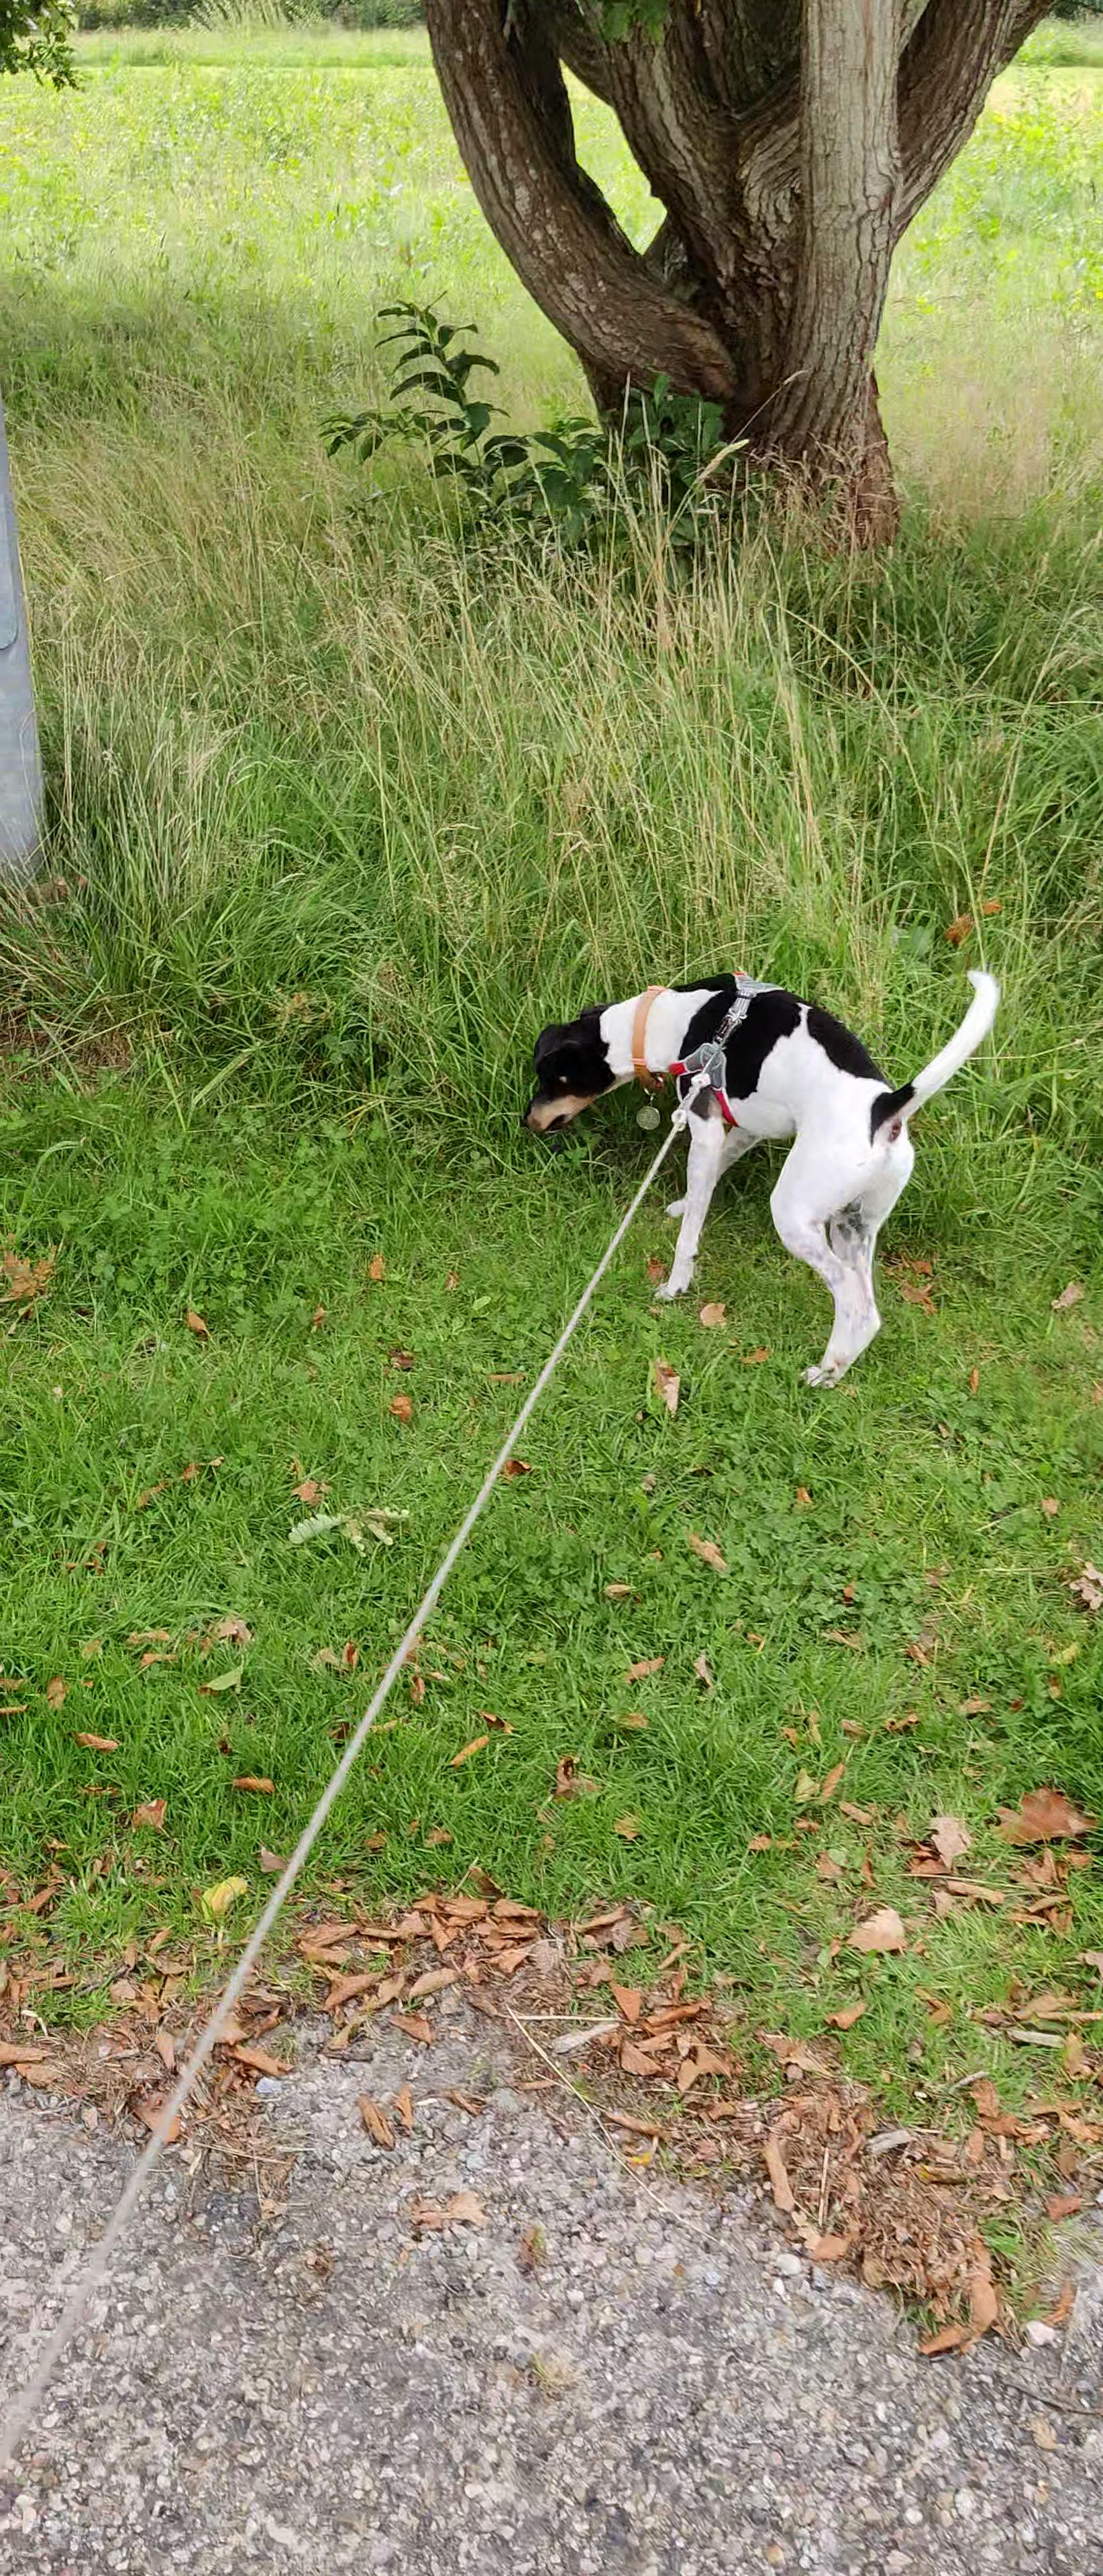Dog: (488, 927, 1026, 1413)
